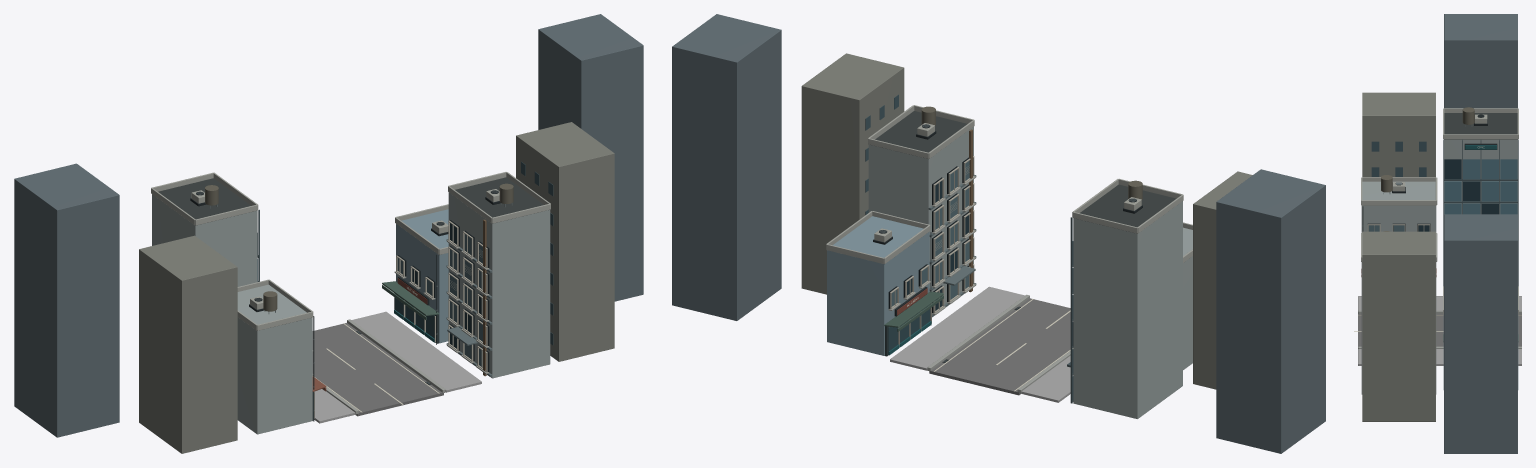
Rendered from city_hd_09.glb.
3 renders of one model, left to right at view 1: azimuth 30°, elevation 25°; view 2: azimuth 150°, elevation 25°; view 3: azimuth 270°, elevation 25°, orthographic. The views are drawn at different scales.
Parts seen in each view (by area): view 1: CITY_distant_2, CITY_distant_1, CITY_wall_gray, CITY_PBR_asphalt, CITY_trim, CITY_PBR_pavement, Mixed use shop volume.001, CITY_roof, CITY_frame, CITY_glass, CITY_recess, CITY_tank (+3 smaller); view 2: CITY_distant_2, CITY_wall_gray, CITY_distant_1, Mixed use shop volume.001, CITY_PBR_asphalt, CITY_PBR_pavement, CITY_trim, CITY_roof, CITY_frame, CITY_glass, CITY_curb, CITY_recess (+2 smaller); view 3: CITY_distant_2, CITY_distant_1, CITY_wall_gray, CITY_office_glass, CITY_trim, CITY_roof, CITY_glass_dark, CITY_office_frame, CITY_PBR_asphalt, CITY_distant_window, CITY_PBR_pavement, CITY_tank (+2 smaller).
Part boxes in pixels (x1,y1,x2,y2): CITY_distant_2: [14, 14, 643, 437]; CITY_distant_1: [139, 122, 614, 453]; CITY_wall_gray: [152, 192, 550, 434]; CITY_PBR_asphalt: [312, 323, 443, 416]; CITY_trim: [151, 172, 550, 375]; CITY_PBR_pavement: [314, 311, 481, 423]; Mixed use shop volume.001: [396, 209, 448, 343]; CITY_roof: [158, 177, 548, 330]; CITY_frame: [314, 220, 487, 418]; CITY_glass: [397, 234, 482, 367]; CITY_recess: [397, 220, 489, 371]; CITY_tank: [205, 183, 513, 311]; CITY_distant_2: [672, 14, 1325, 453]; CITY_wall_gray: [868, 126, 1192, 418]; CITY_distant_1: [801, 53, 1252, 389]; Mixed use shop volume.001: [827, 216, 929, 355]; CITY_PBR_asphalt: [929, 298, 1073, 395]; CITY_PBR_pavement: [890, 286, 1073, 402]; CITY_trim: [826, 105, 1192, 315]; CITY_roof: [875, 111, 1176, 264]; CITY_frame: [890, 156, 974, 346]; CITY_glass: [891, 160, 969, 306]; CITY_curb: [927, 294, 1070, 393]; CITY_recess: [888, 157, 968, 312]; CITY_distant_2: [1444, 14, 1517, 453]; CITY_distant_1: [1362, 92, 1435, 421]; CITY_wall_gray: [1361, 139, 1517, 394]; CITY_office_glass: [1444, 159, 1517, 214]; CITY_trim: [1361, 108, 1518, 314]; CITY_roof: [1444, 113, 1517, 139]; CITY_glass_dark: [1418, 159, 1498, 231]; CITY_office_frame: [1443, 139, 1518, 286]; CITY_PBR_asphalt: [1358, 314, 1521, 346]; CITY_distant_window: [1371, 141, 1426, 176]; CITY_PBR_pavement: [1358, 296, 1521, 365]; CITY_tank: [1381, 107, 1474, 231].
Bounding box in the file's own units: 56.65 × 23.26 × 16.4.
